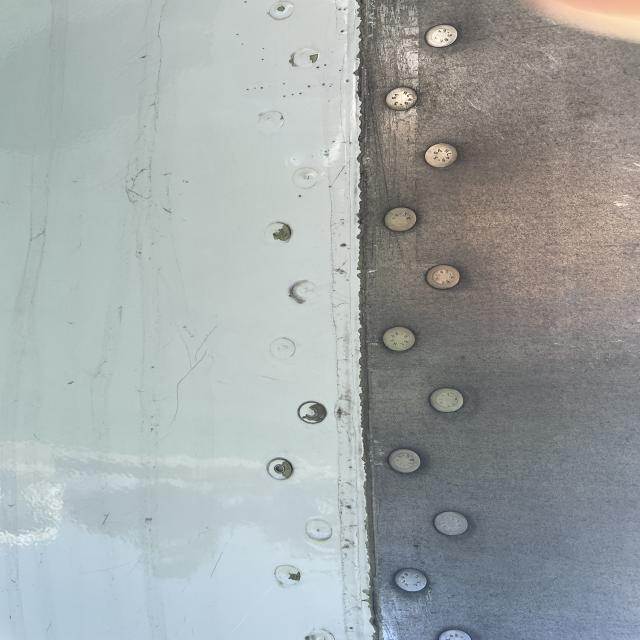crack: (160, 326, 228, 417), (114, 159, 176, 213)
